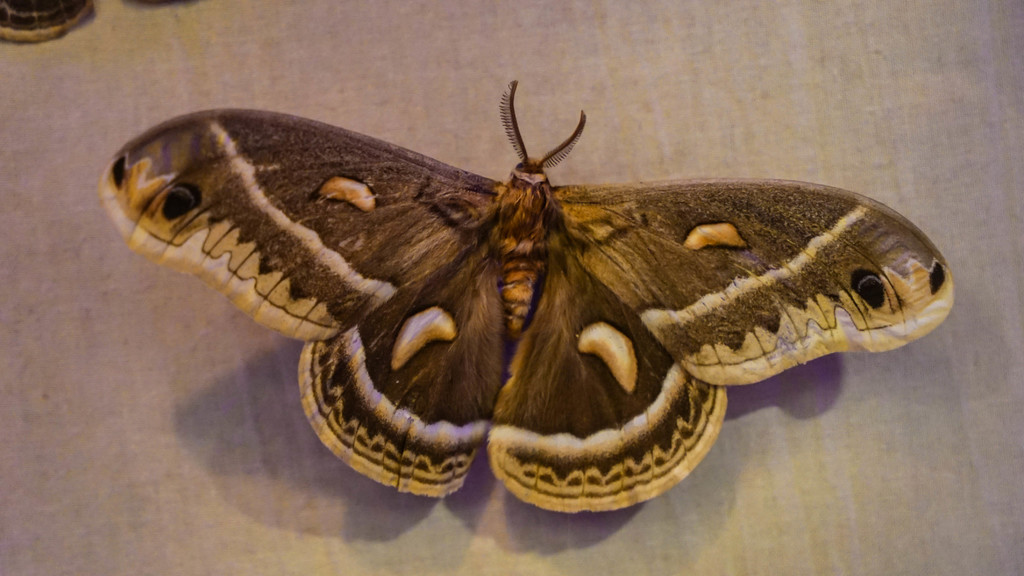Butterfly: (91, 61, 993, 526)
